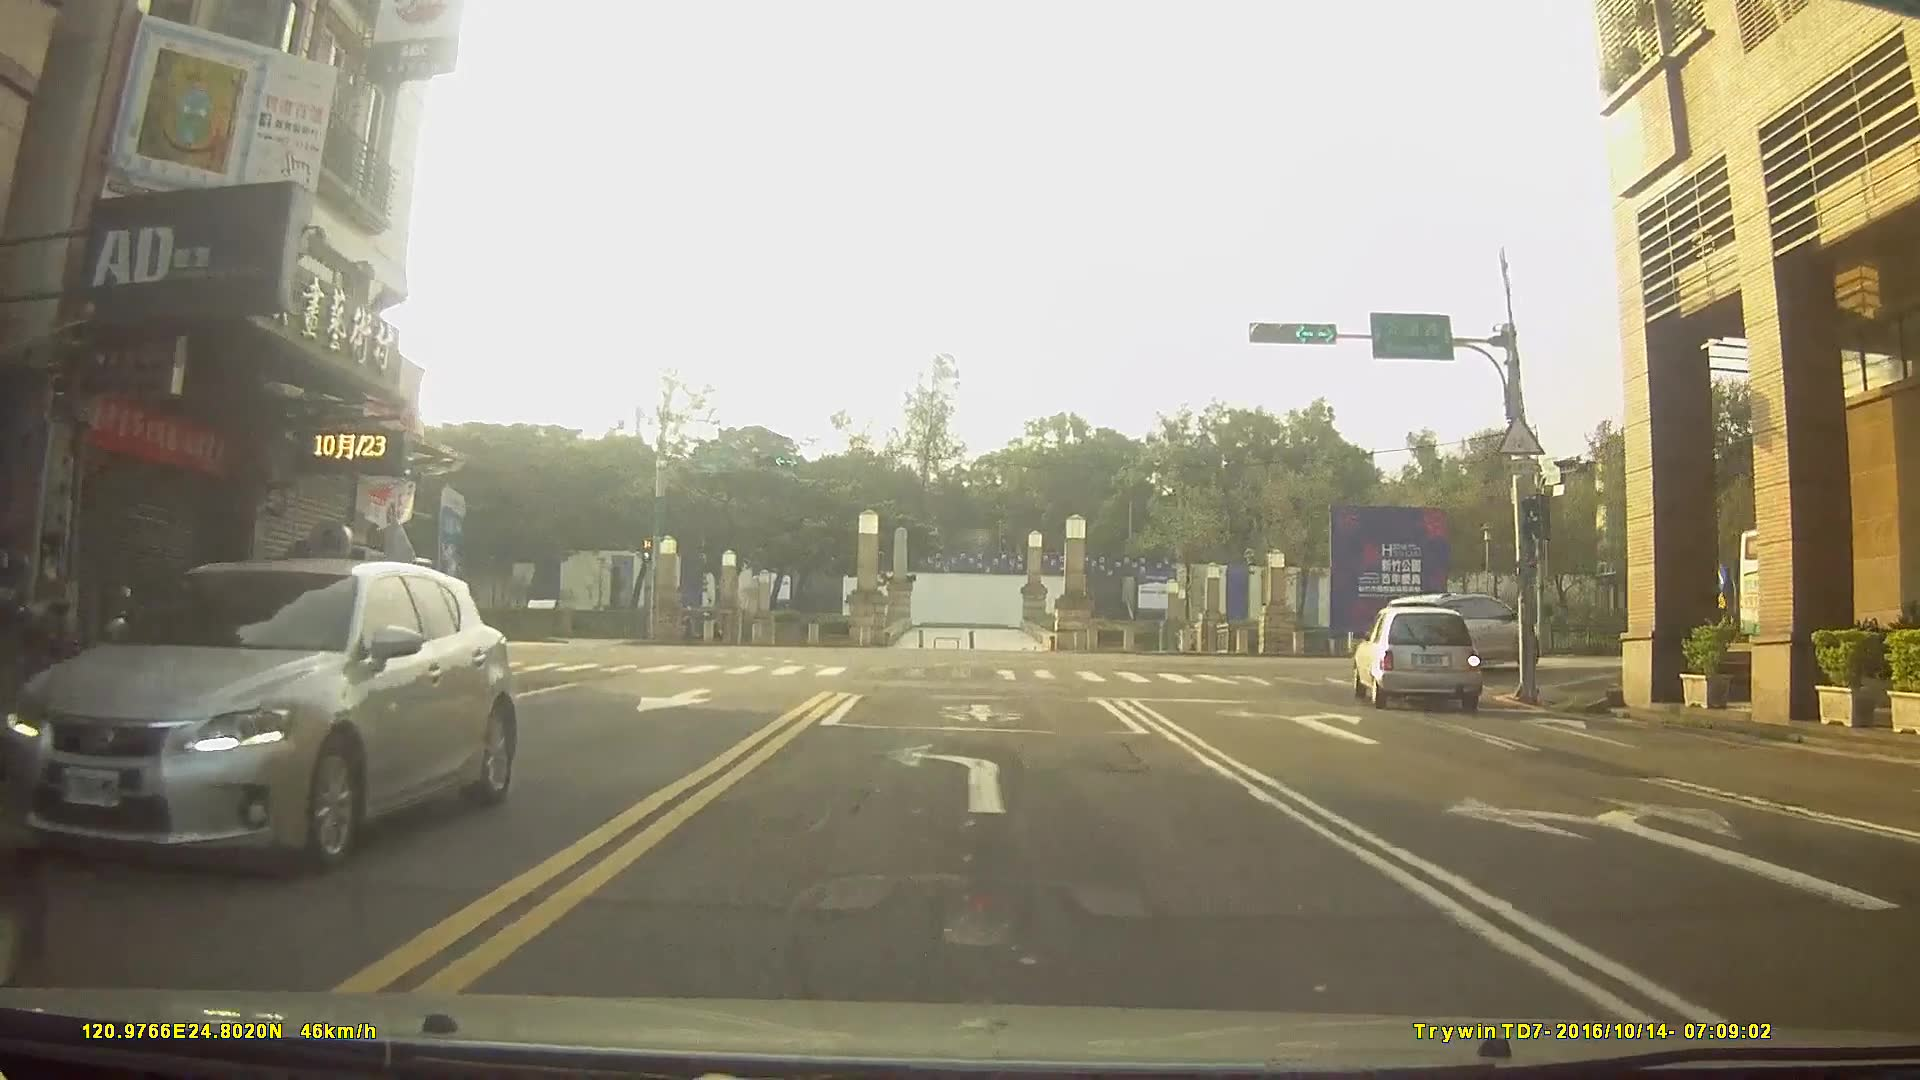vehicle: (0, 554, 520, 874), (1352, 607, 1482, 711), (1378, 593, 1542, 676)
